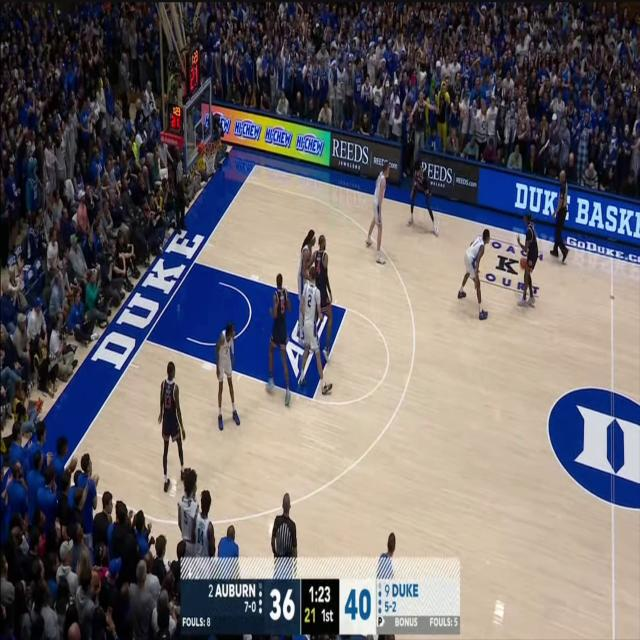basketball: (514, 244, 532, 284)
